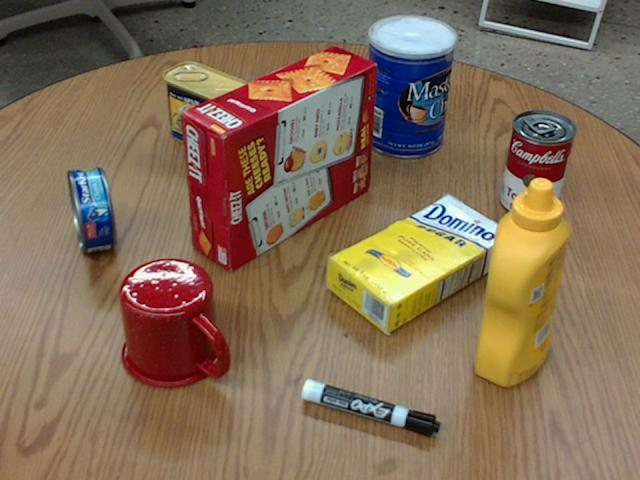cracker_box: (181, 45, 373, 270)
gelatin_box: (250, 63, 334, 119)
large_marker: (301, 379, 439, 436)
master_chef_can: (363, 15, 455, 156)
mug: (119, 258, 226, 387)
mustard_bottle: (475, 178, 569, 386)
potted_meat_can: (163, 60, 246, 155)
sugar_box: (326, 196, 511, 331)
tomato_soup_can: (501, 110, 575, 218)
tuna_fish_can: (67, 167, 117, 253)
